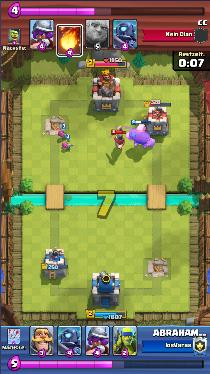ally_archer: (57, 130, 68, 141), (61, 142, 72, 151)
ally_giant: (126, 121, 154, 148)
enemy_knight: (110, 126, 126, 151)
